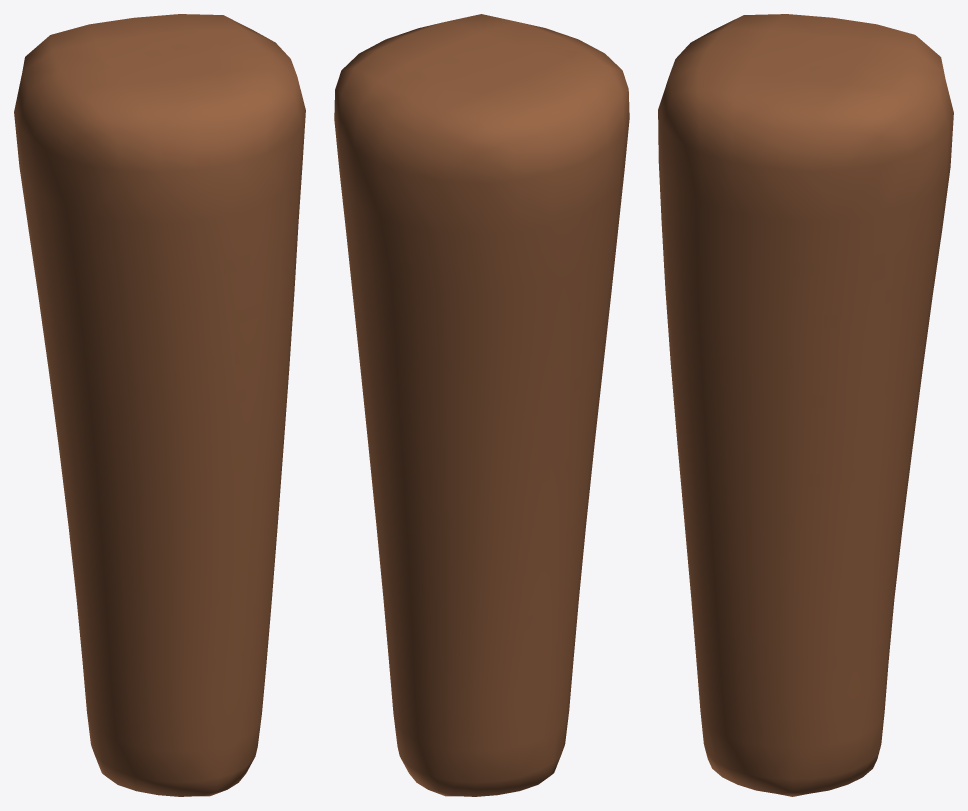
Rendered from musloder.obj.
3 renders of one model, left to right at view 1: azimuth 30°, elevation 25°; view 2: azimuth 150°, elevation 25°; view 3: azimuth 270°, elevation 25°, orthographic.
Parts seen in each view (by area): view 1: MusloDer; view 2: MusloDer; view 3: MusloDer.
Boxes of the visible parts, <box> form: MusloDer: <box>14,14,305,796</box>; MusloDer: <box>334,14,629,796</box>; MusloDer: <box>658,14,953,796</box>.
Size of the model in its own units: 0.1049 by 0.2835 by 0.1071.
1 material, 1 textured.
